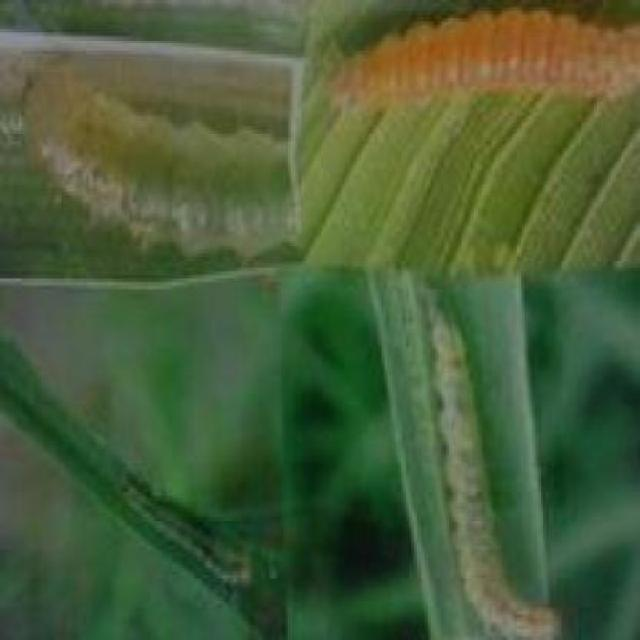leaf-folder: (400, 286, 580, 640), (18, 43, 279, 265), (320, 0, 640, 135), (114, 456, 258, 602)
